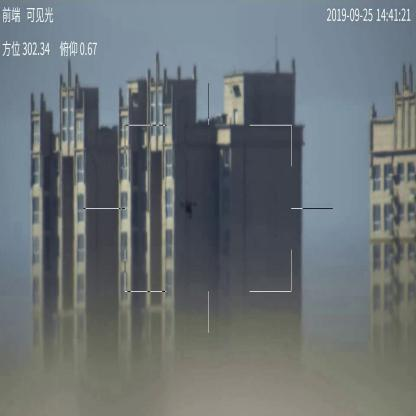uav: (178, 197, 198, 223)
